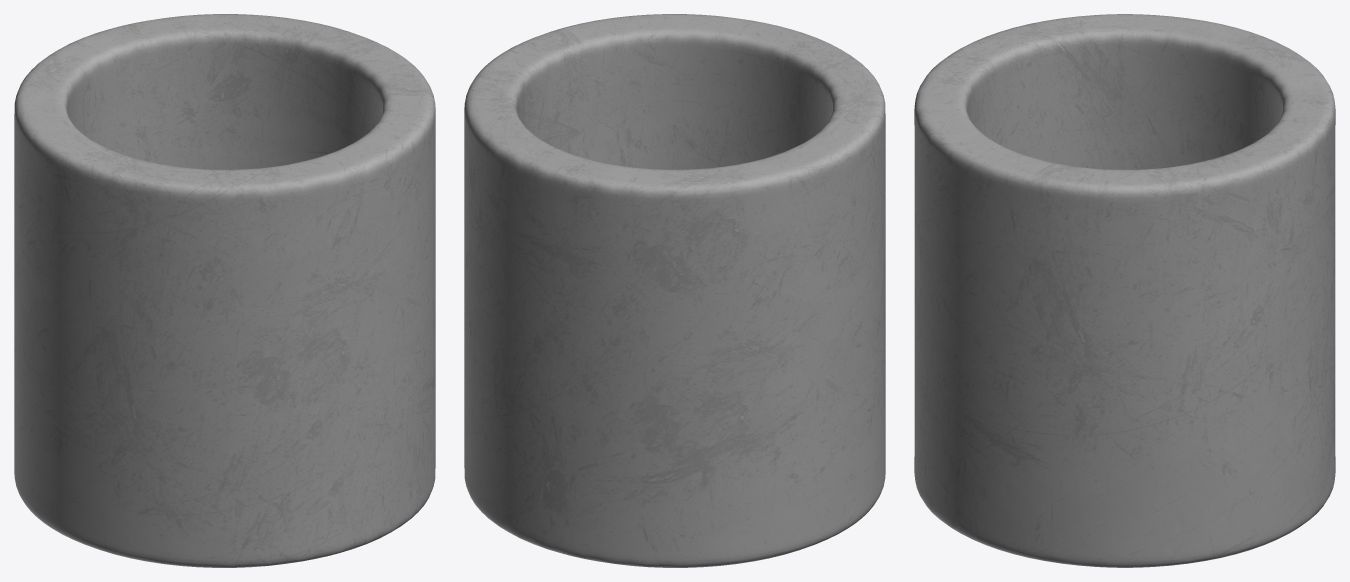
The picture shows the model from 3 angles, left to right: view 1: azimuth 30°, elevation 25°; view 2: azimuth 150°, elevation 25°; view 3: azimuth 270°, elevation 25°; orthographic projection.
Visible parts, largest first — view 1: Cylinder; view 2: Cylinder; view 3: Cylinder.
Boxes of the visible parts, bbox=[...] form: Cylinder: bbox=[14, 14, 435, 567]; Cylinder: bbox=[464, 14, 885, 567]; Cylinder: bbox=[914, 14, 1335, 567].
Size of the model in its own units: 1.47 by 1.47 by 1.47.
Materials: 1 (1 with a texture image).
